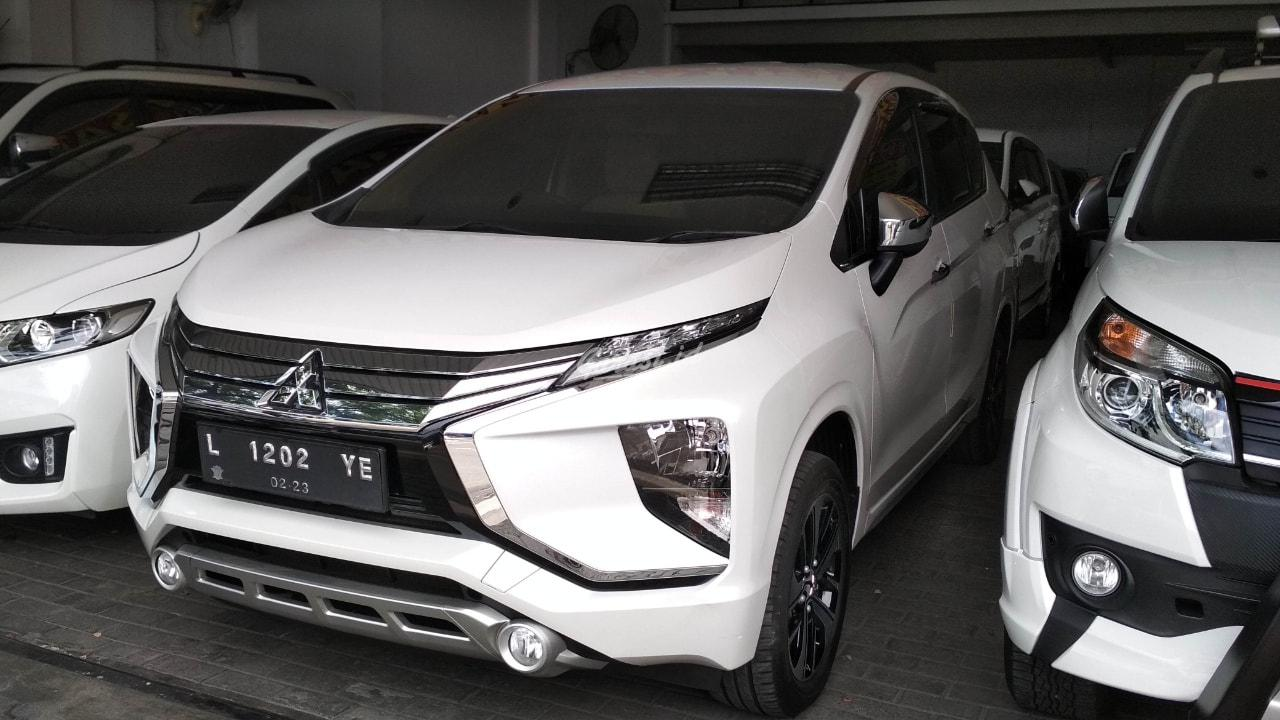plate: (198, 423, 389, 511)
